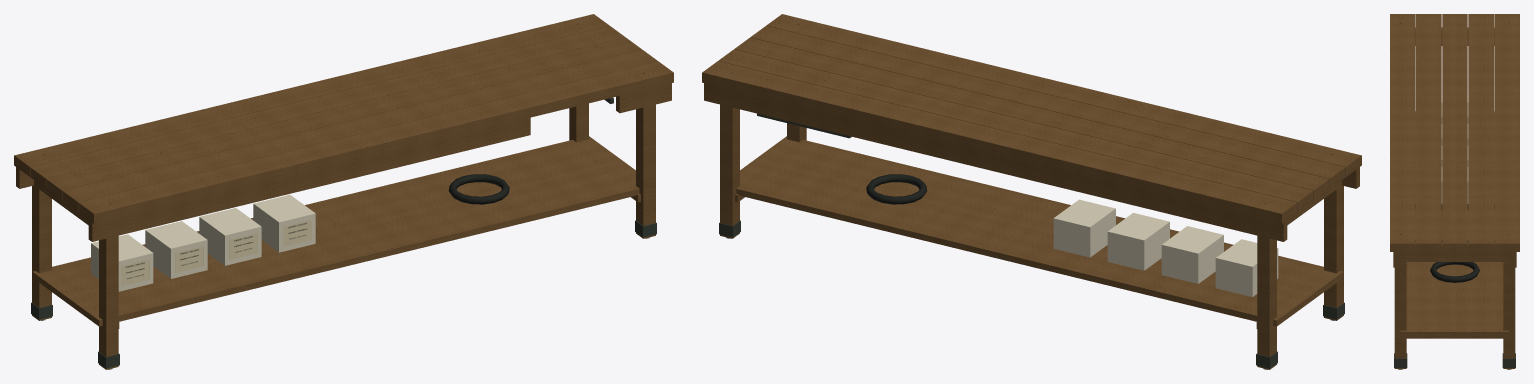
The model's file is SM_FieldKit_TimingBench.fbx.
3 views of the same model, side by side, from view 1: azimuth 30°, elevation 25°; view 2: azimuth 150°, elevation 25°; view 3: azimuth 270°, elevation 25° (orthographic). The views are drawn at different scales.
Parts seen in each view (by area): view 1: SM_FieldKit_TimingBench; view 2: SM_FieldKit_TimingBench; view 3: SM_FieldKit_TimingBench.
Boxes of the visible parts, <box> form: SM_FieldKit_TimingBench: <box>14,14,673,369</box>; SM_FieldKit_TimingBench: <box>702,14,1361,369</box>; SM_FieldKit_TimingBench: <box>1390,14,1519,369</box>.
Bounding box in the file's own units: 3 × 0.717 × 0.814.
